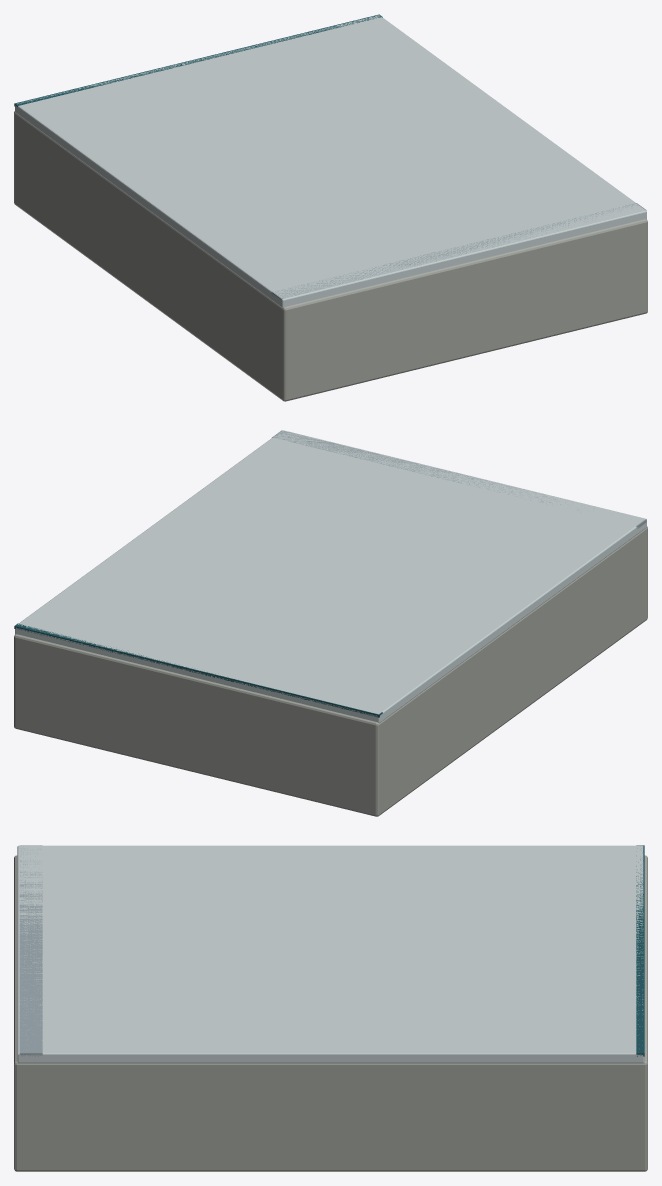
Rendered from SM_StationPlatformPanel.fbx.
The picture shows the model from 3 angles, top to bottom: view 1: azimuth 30°, elevation 25°; view 2: azimuth 150°, elevation 25°; view 3: azimuth 270°, elevation 25°; orthographic projection. The views are drawn at different scales.
Visible parts, largest first — view 1: SM_StationPlatformPanel_UEExport; view 2: SM_StationPlatformPanel_UEExport; view 3: SM_StationPlatformPanel_UEExport.
Boxes of the visible parts, x1,y1,x2,y2 form: SM_StationPlatformPanel_UEExport: [14, 14, 647, 401]; SM_StationPlatformPanel_UEExport: [14, 430, 647, 816]; SM_StationPlatformPanel_UEExport: [14, 845, 647, 1171].
Size of the model in its own units: 299 by 385 by 80.
